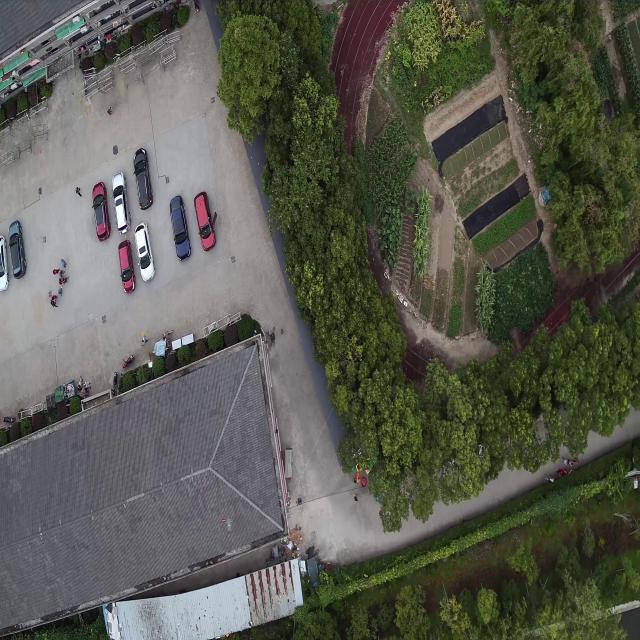UAV: (221, 516, 238, 536)
